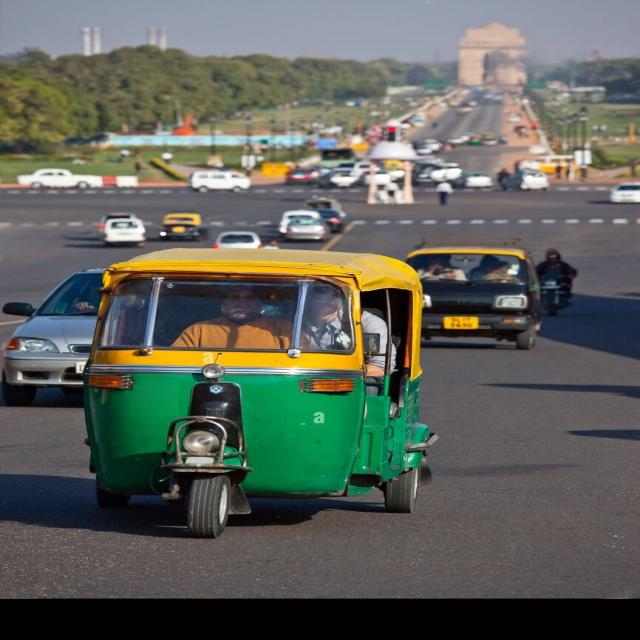autorickshaw: (84, 250, 431, 536)
car: (407, 236, 542, 349)
